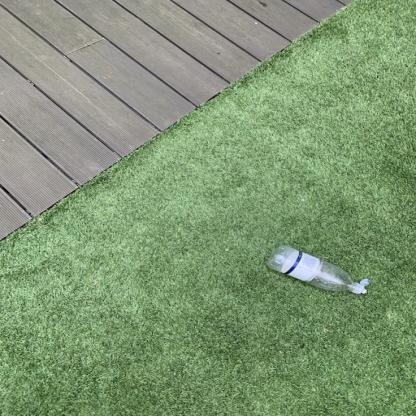trash: (267, 246, 372, 297)
